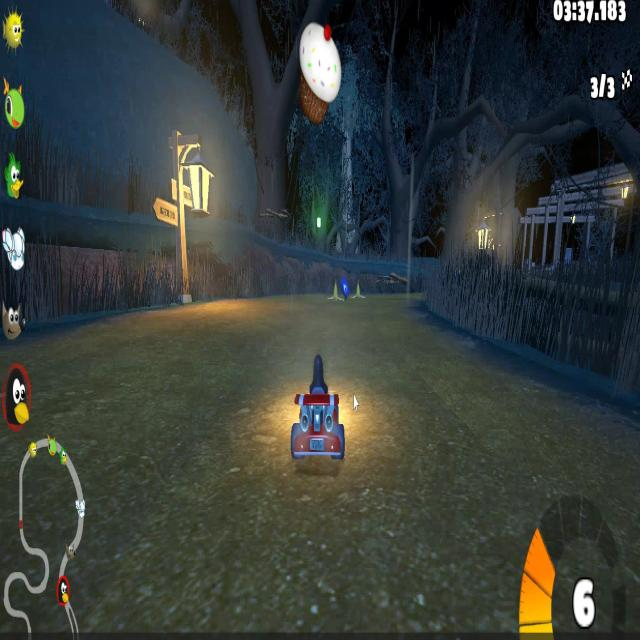obstacle: (353, 280, 365, 304), (328, 280, 339, 302)
player_kart: (286, 348, 344, 475)
track: (198, 302, 431, 344)
